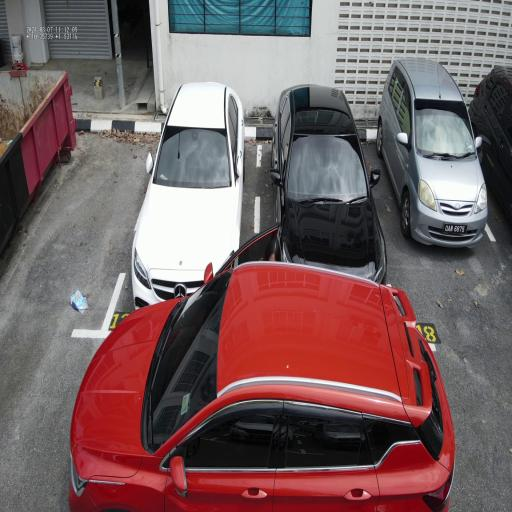Illegal: (70, 261, 456, 512)
Occupied: (106, 133, 264, 333), (256, 132, 394, 295)
